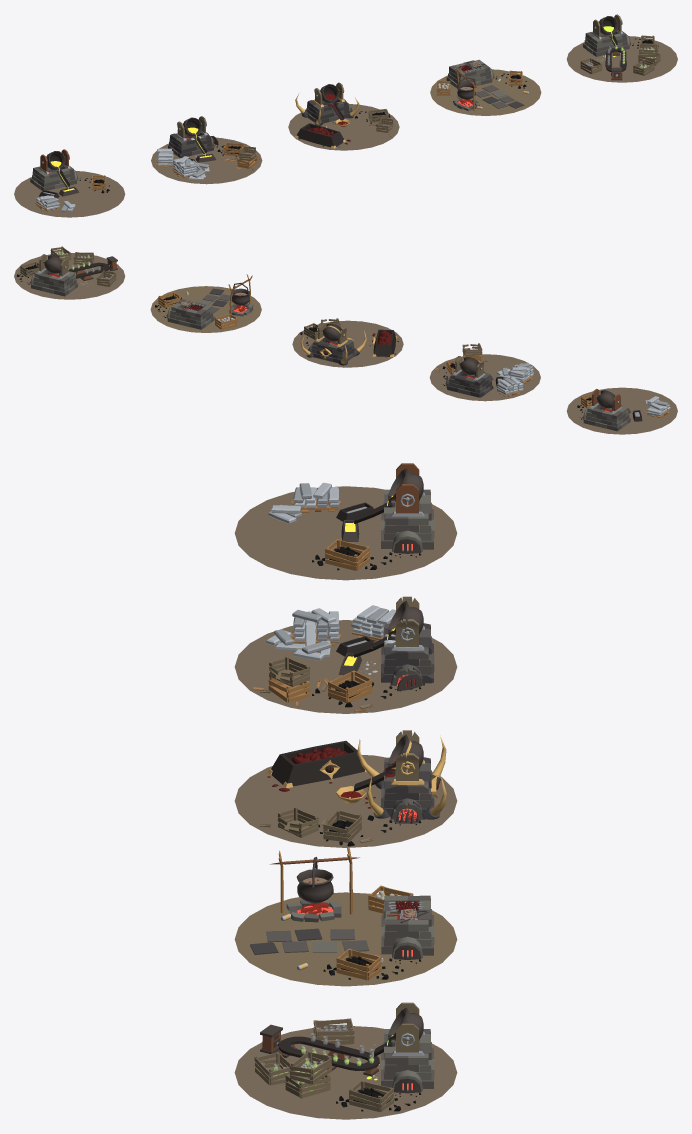
The model's file is smelter-kit.glb.
3 renders of one model, top to bottom at view 1: azimuth 30°, elevation 25°; view 2: azimuth 150°, elevation 25°; view 3: azimuth 270°, elevation 25°, orthographic. The views are drawn at different scales.
Parts seen in each view (by area): view 1: smelter_0, smelter_4, smelter_3, smelter_1, smelter_2; view 2: smelter_0, smelter_4, smelter_3, smelter_1, smelter_2; view 3: smelter_0, smelter_3, smelter_4, smelter_1, smelter_2.
Part boxes in pixels (box(x1,y1,x2,y2)): smelter_0: box(14, 116, 393, 217); smelter_4: box(566, 14, 677, 82); smelter_3: box(430, 53, 620, 115); smelter_1: box(189, 82, 399, 180); smelter_2: box(239, 88, 469, 161); smelter_0: box(321, 318, 677, 434); smelter_4: box(14, 246, 125, 299); smelter_3: box(150, 274, 261, 332); smelter_1: box(292, 320, 533, 387); smelter_2: box(239, 294, 482, 367); smelter_0: box(234, 463, 457, 837); smelter_3: box(234, 847, 457, 1080); smelter_4: box(234, 1002, 457, 1119); smelter_1: box(234, 623, 457, 847); smelter_2: box(260, 656, 446, 882).
Size of the model in its own units: 106 by 5.94 by 15.79.
